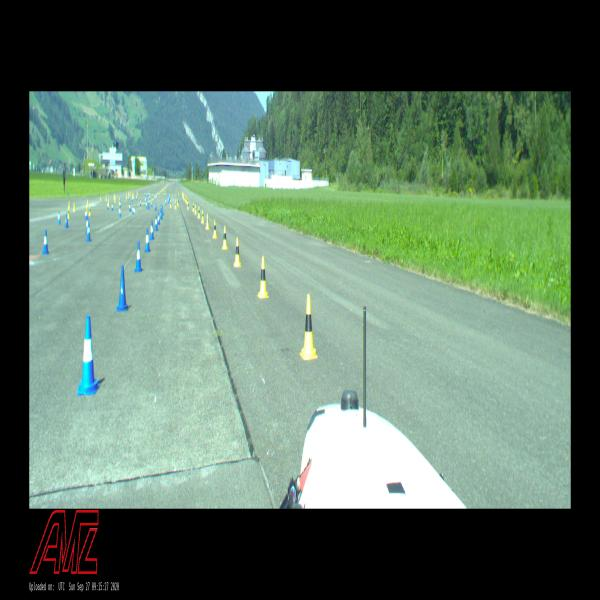blue_cone: (76, 316, 100, 394), (117, 266, 128, 311), (135, 241, 142, 272), (43, 230, 49, 254), (145, 228, 150, 252), (86, 222, 91, 242), (150, 220, 154, 240), (154, 215, 158, 231), (57, 211, 61, 224), (157, 211, 160, 225), (65, 214, 68, 228), (86, 216, 88, 233), (160, 210, 163, 219), (85, 209, 87, 220), (132, 204, 134, 215), (162, 205, 164, 216), (119, 207, 121, 217), (129, 203, 131, 211), (165, 198, 167, 205), (107, 202, 109, 209), (160, 203, 162, 210), (146, 200, 147, 209), (148, 202, 149, 210), (140, 199, 141, 206), (112, 203, 113, 210), (120, 201, 121, 208), (132, 196, 133, 202), (168, 197, 169, 203), (145, 197, 146, 203), (136, 195, 137, 200)
yellow_cone: (300, 294, 317, 360), (257, 256, 269, 298), (234, 237, 241, 267), (221, 225, 228, 250), (205, 213, 210, 230), (213, 219, 217, 239), (67, 207, 70, 219), (201, 211, 204, 223), (88, 205, 91, 216), (198, 206, 200, 218), (68, 200, 70, 210), (192, 202, 194, 211), (174, 200, 176, 209), (194, 205, 196, 214), (177, 198, 179, 207), (73, 203, 75, 212), (187, 201, 189, 209), (170, 200, 171, 208), (106, 194, 107, 201), (108, 199, 109, 206), (100, 194, 101, 200), (119, 198, 120, 204), (115, 196, 116, 202), (114, 194, 115, 200)
